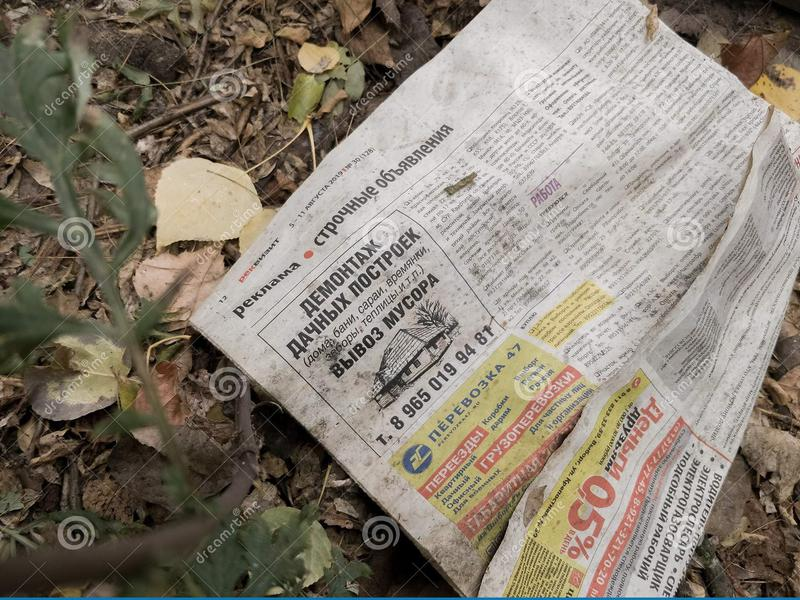leaf: (144, 121, 268, 254), (287, 33, 345, 77)
paper: (191, 2, 800, 600)
